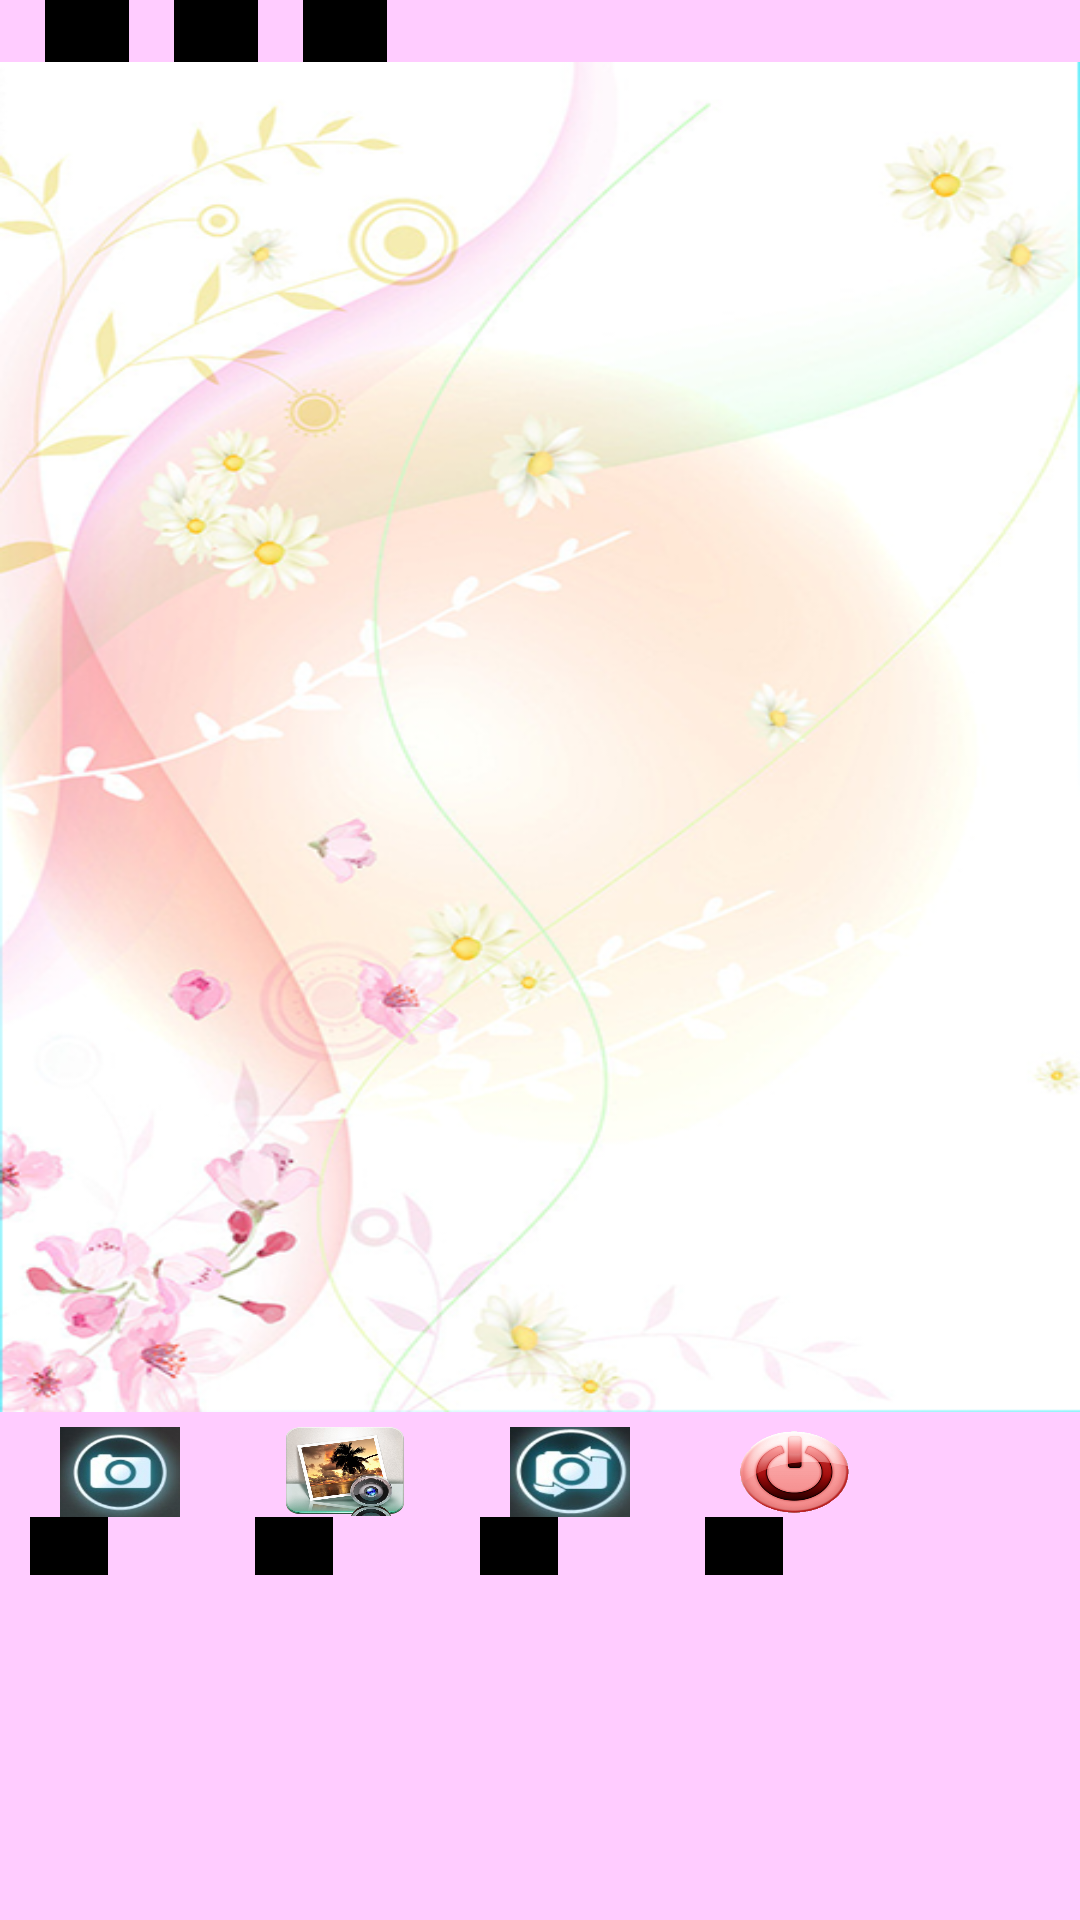

Icon bounding boxes for this 1080px x 1920px phone screenshot, format (x1, y1, x2, y2):
finish: (740, 1431, 849, 1513)
jieping: (510, 1427, 630, 1517)
takephoto: (60, 1427, 180, 1517)
